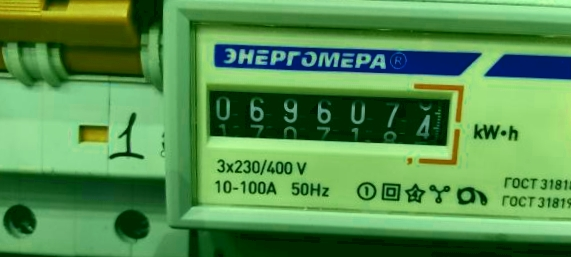0: (211, 93, 233, 122), (348, 96, 367, 126), (247, 95, 265, 121)
4: (414, 112, 432, 141)
6: (313, 95, 332, 125)
7: (381, 99, 400, 128)
9: (280, 95, 299, 124)
screen: (189, 69, 466, 165)
